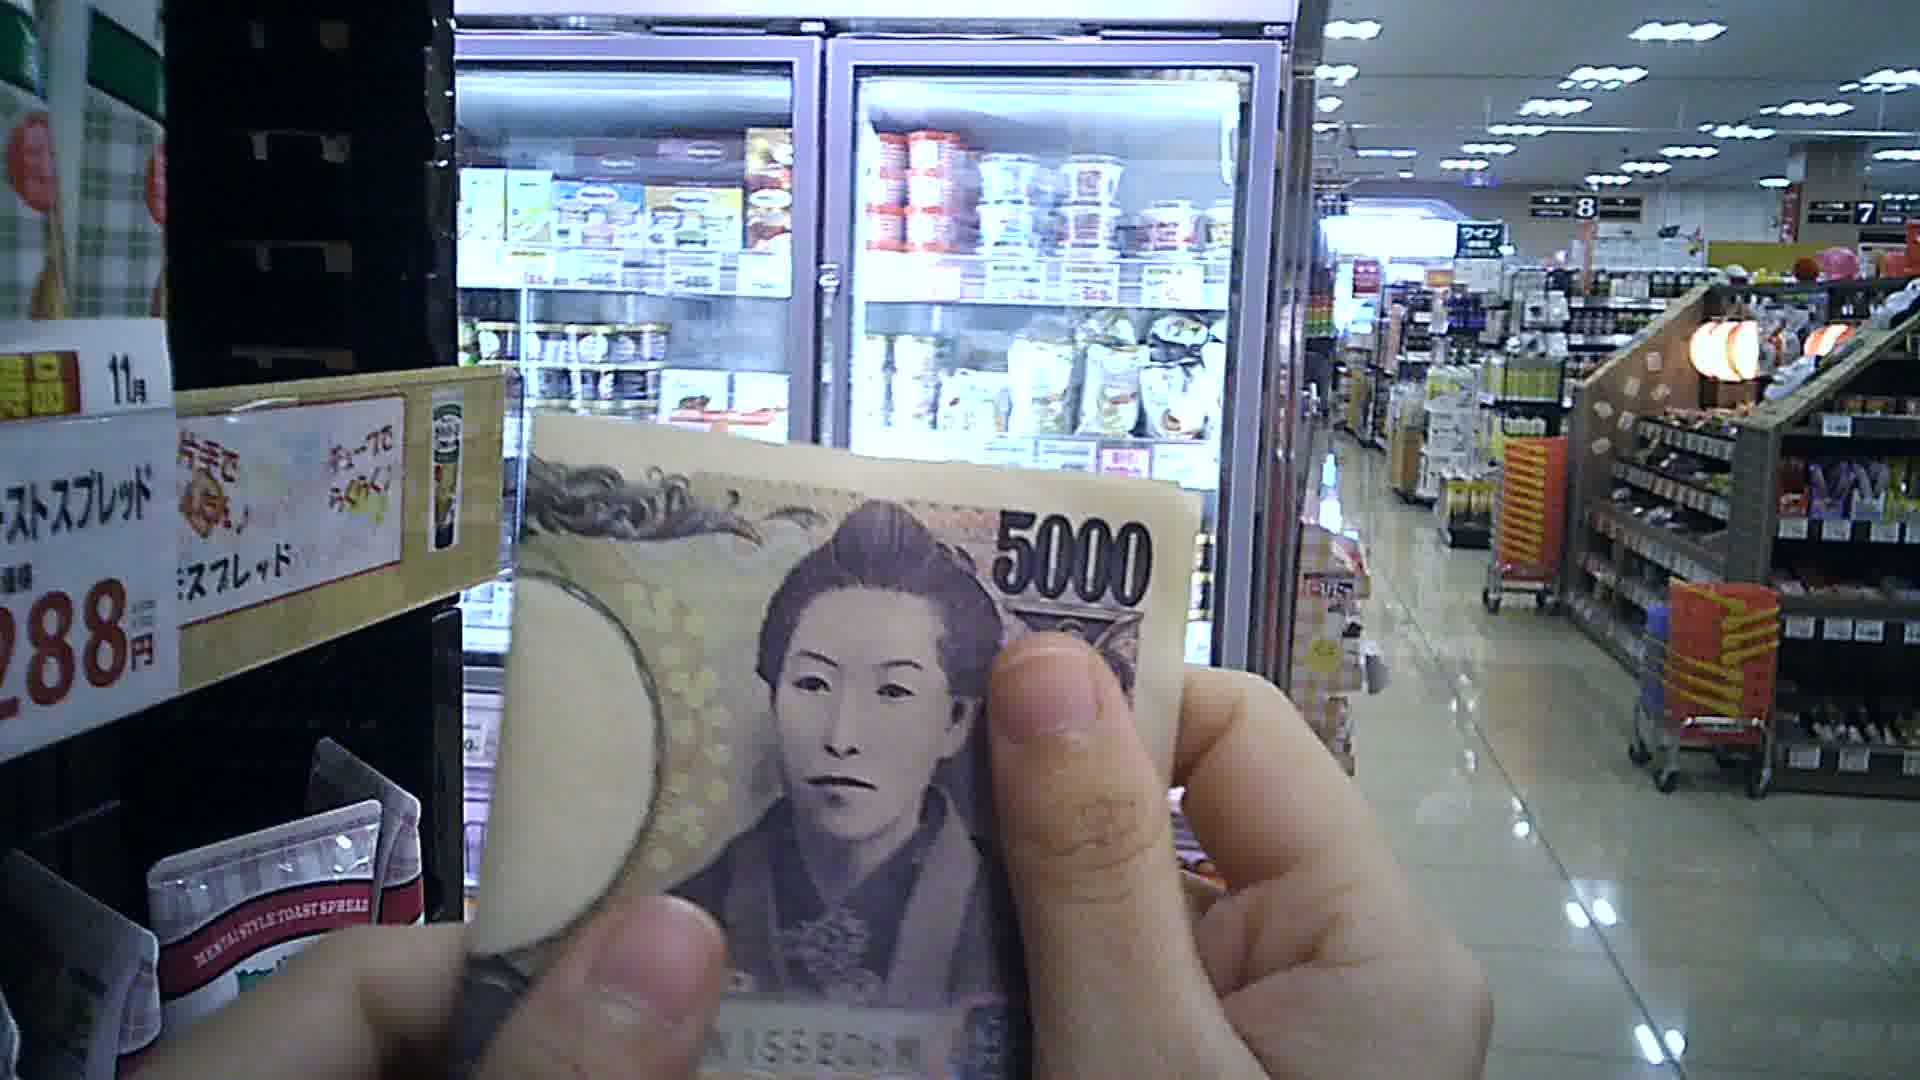5,000 Yen: (468, 397, 1187, 1076)
